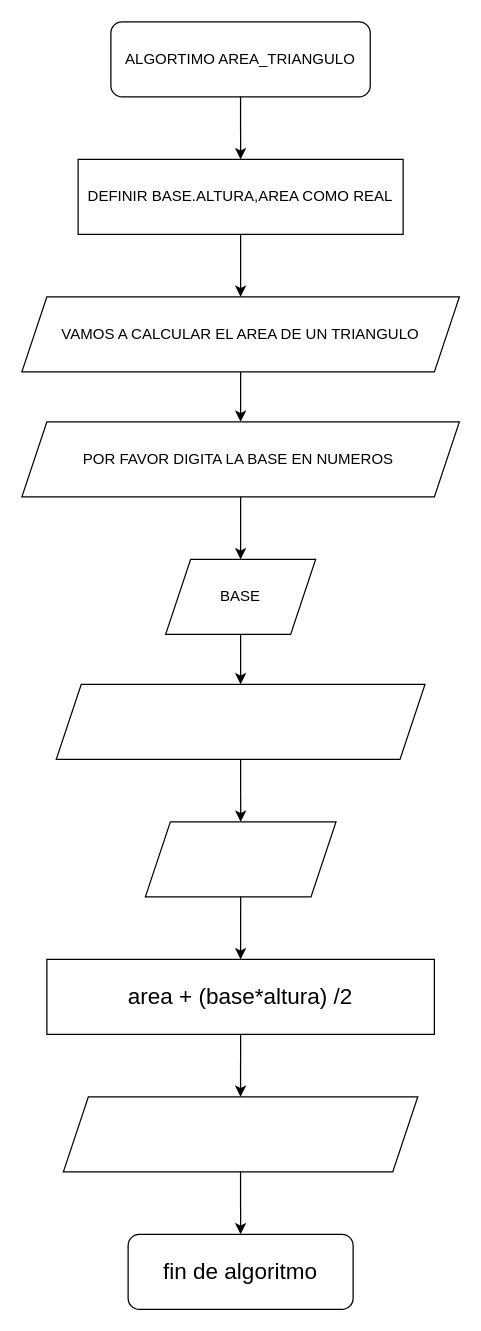
This 481x1331 diagram has some shape labels left out. Here are the shapes that lost their labels. From the top down, the centre of each, then its label:
At [240,721]: "POR FAVOR DIGITA LA ALTURA EN NUMEROS".
At [240,859]: "Altura".
At [240,1134]: "el area del triangulo es : , area".
